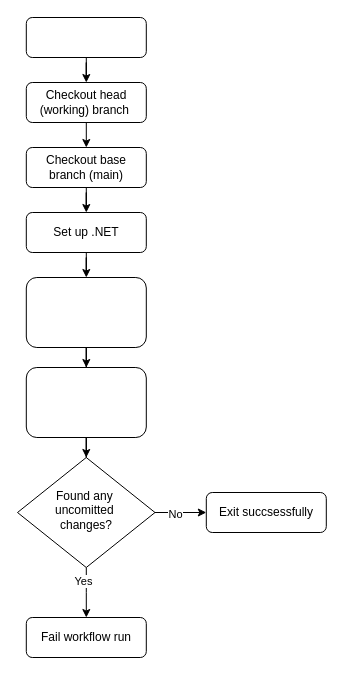
This 344x675 diagram has some shape labels left out. Each missing label, with the box of its shape:
Check schema workflow triggered: (25, 16, 146, 58)
Compare main schema and head schema: (25, 366, 146, 438)
Generate new OpenAPI schema (based on head branch!: (25, 276, 146, 348)
